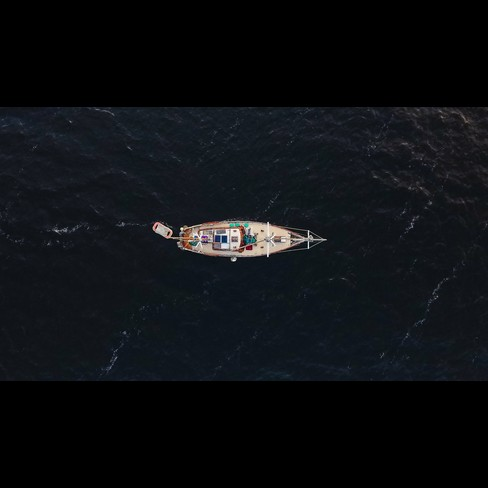boat: (149, 205, 333, 267)
